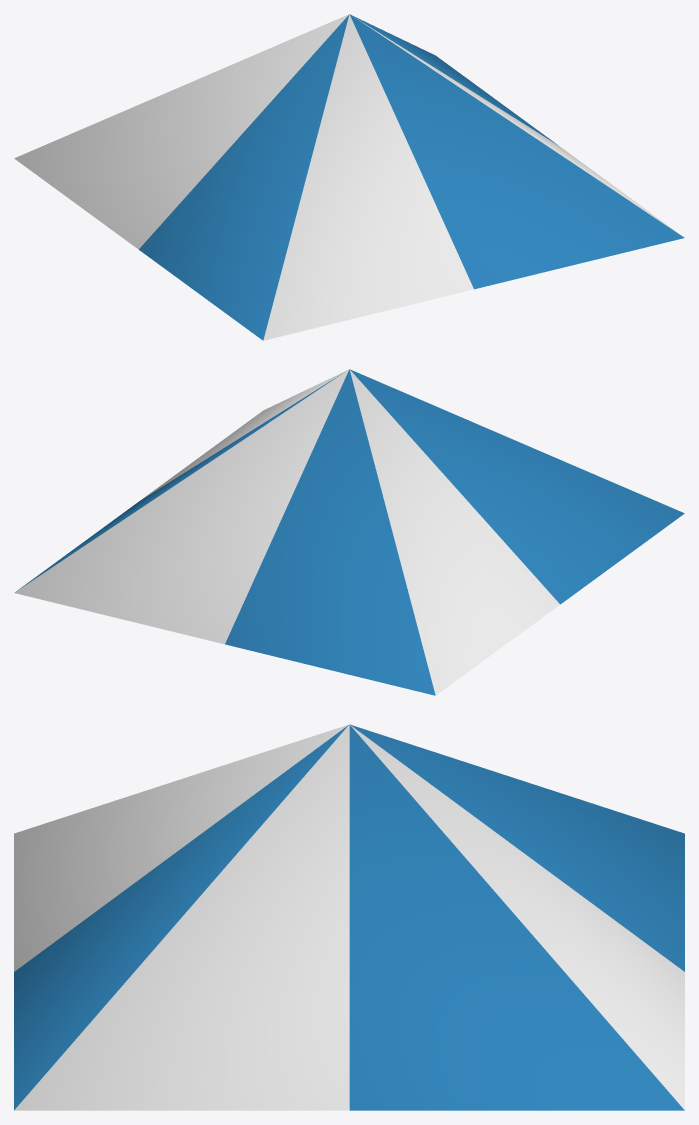
The model's file is tent_3x3_floor1.glb.
3 renders of one model, top to bottom at view 1: azimuth 30°, elevation 25°; view 2: azimuth 150°, elevation 25°; view 3: azimuth 270°, elevation 25°, orthographic. The views are drawn at different scales.
Visible parts, largest first — view 1: tent_3x3_floor1; view 2: tent_3x3_floor1; view 3: tent_3x3_floor1.
Boxes of the visible parts, left/top/right/bottom form: tent_3x3_floor1: left=14, top=14, right=684, bottom=340; tent_3x3_floor1: left=14, top=369, right=684, bottom=695; tent_3x3_floor1: left=14, top=724, right=684, bottom=1110.
Bounding box in the file's own units: 2.93 × 1.22 × 3.
